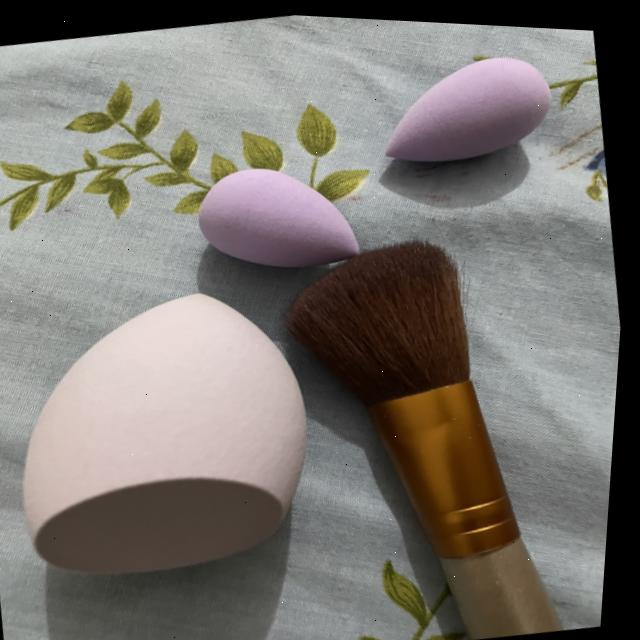beauty blender: (0, 262, 357, 608), (347, 23, 586, 188), (179, 140, 381, 298)
brush: (247, 208, 561, 640)
